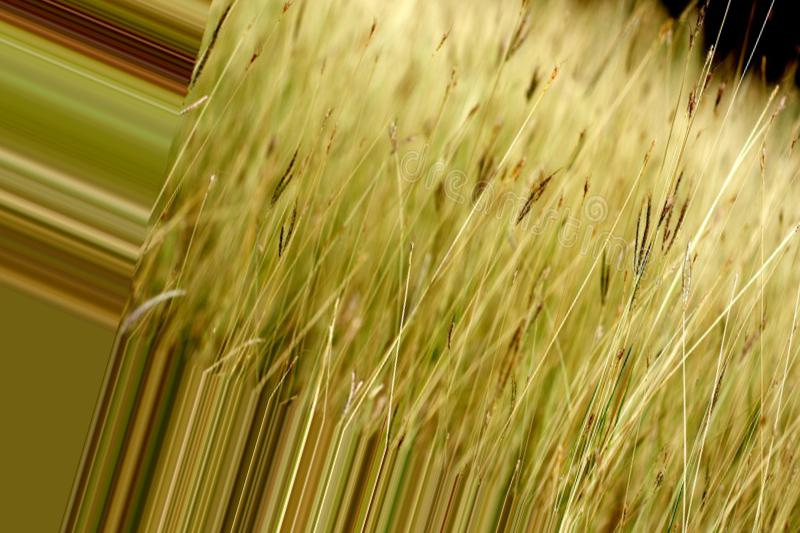patch: (425, 71, 651, 242)
